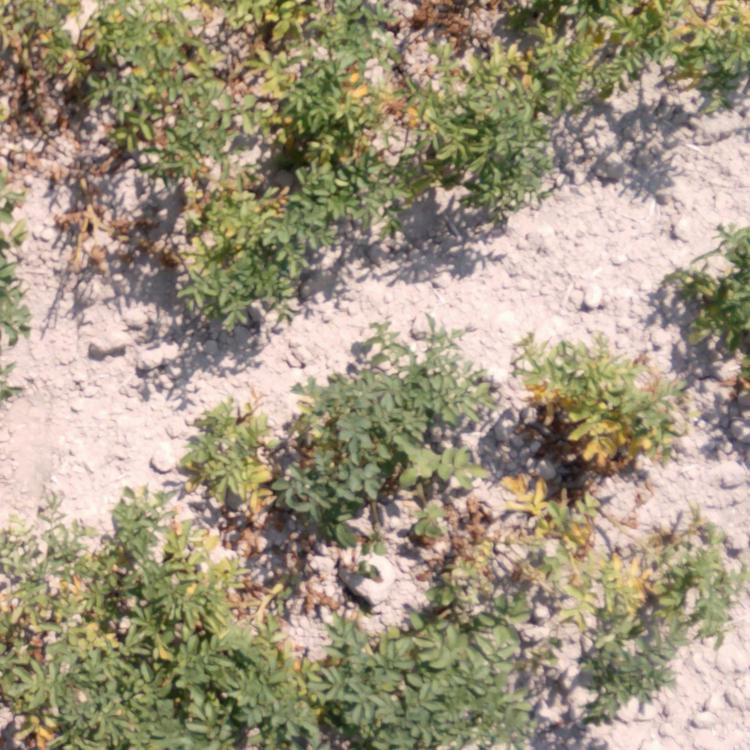healthy: (303, 335, 489, 514), (337, 613, 518, 750)
stressed: (3, 505, 151, 744), (395, 38, 551, 221), (577, 530, 743, 690), (168, 174, 363, 292), (522, 330, 677, 478), (236, 1, 378, 157), (82, 5, 221, 160), (180, 392, 294, 540), (431, 483, 571, 602), (165, 644, 320, 745), (177, 539, 315, 635), (650, 1, 750, 95), (549, 3, 637, 99), (698, 237, 750, 394), (9, 1, 68, 112), (1, 193, 35, 361), (68, 194, 151, 253)
